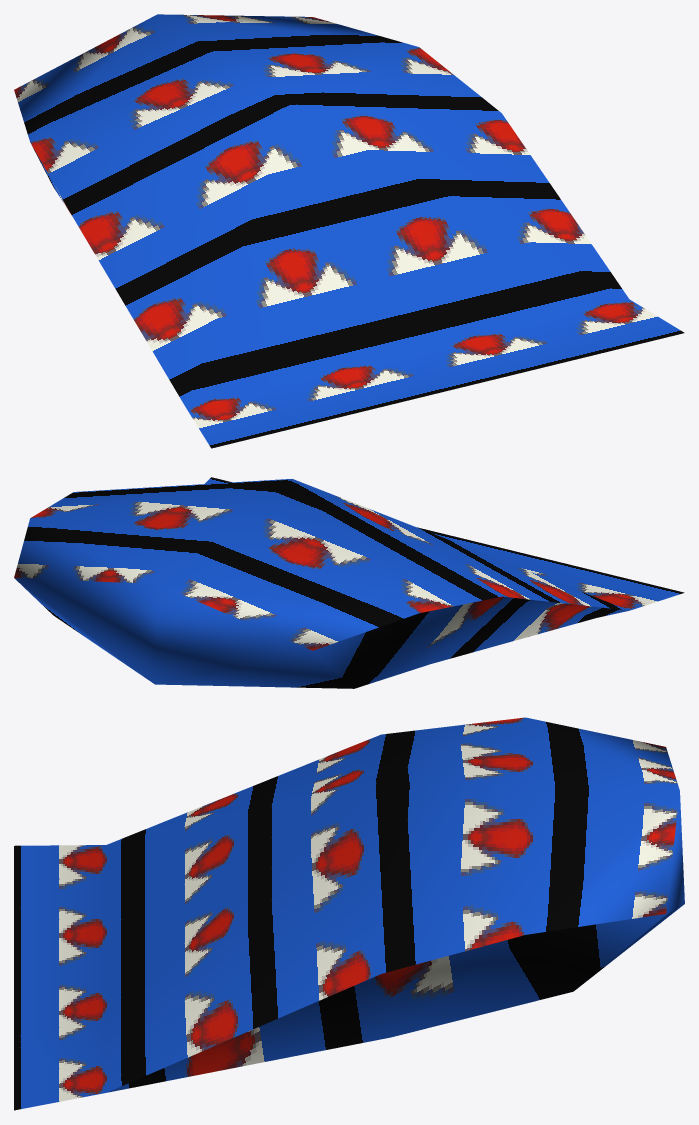
Rendered from 5490uc_cl_top.gltf.
3 renders of one model, top to bottom at view 1: azimuth 30°, elevation 25°; view 2: azimuth 150°, elevation 25°; view 3: azimuth 270°, elevation 25°, orthographic. The views are drawn at different scales.
Parts seen in each view (by area): view 1: 5490uc_cl_top; view 2: 5490uc_cl_top; view 3: 5490uc_cl_top.
Boxes of the visible parts, bbox=[...] form: 5490uc_cl_top: bbox=[14, 14, 684, 448]; 5490uc_cl_top: bbox=[14, 477, 684, 688]; 5490uc_cl_top: bbox=[14, 717, 684, 1110].
Bounding box in the file's own units: 0.7598 × 0.2607 × 0.814.
1 material, 1 textured.
